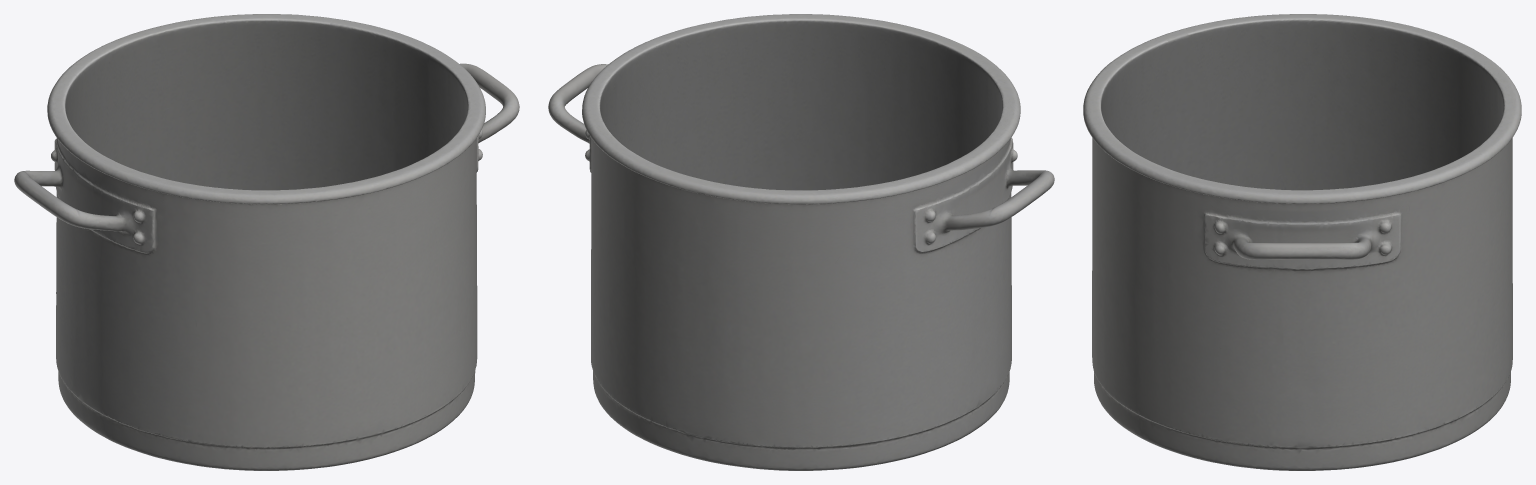
The model's file is Meshy_AI_마라탕_육수_냄비_20261122_texture.fbx.
3 views of the same model, side by side, from view 1: azimuth 30°, elevation 25°; view 2: azimuth 150°, elevation 25°; view 3: azimuth 270°, elevation 25° (orthographic).
Parts seen in each view (by area): view 1: Mesh_0; view 2: Mesh_0; view 3: Mesh_0.
Boxes of the visible parts, x1=… form: Mesh_0: x1=14, y1=14, x2=519, y2=470; Mesh_0: x1=548, y1=14, x2=1054, y2=470; Mesh_0: x1=1083, y1=14, x2=1521, y2=470.
Bounding box in the file's own units: 190 × 109 × 155.
Materials: 1 (1 with a texture image).
